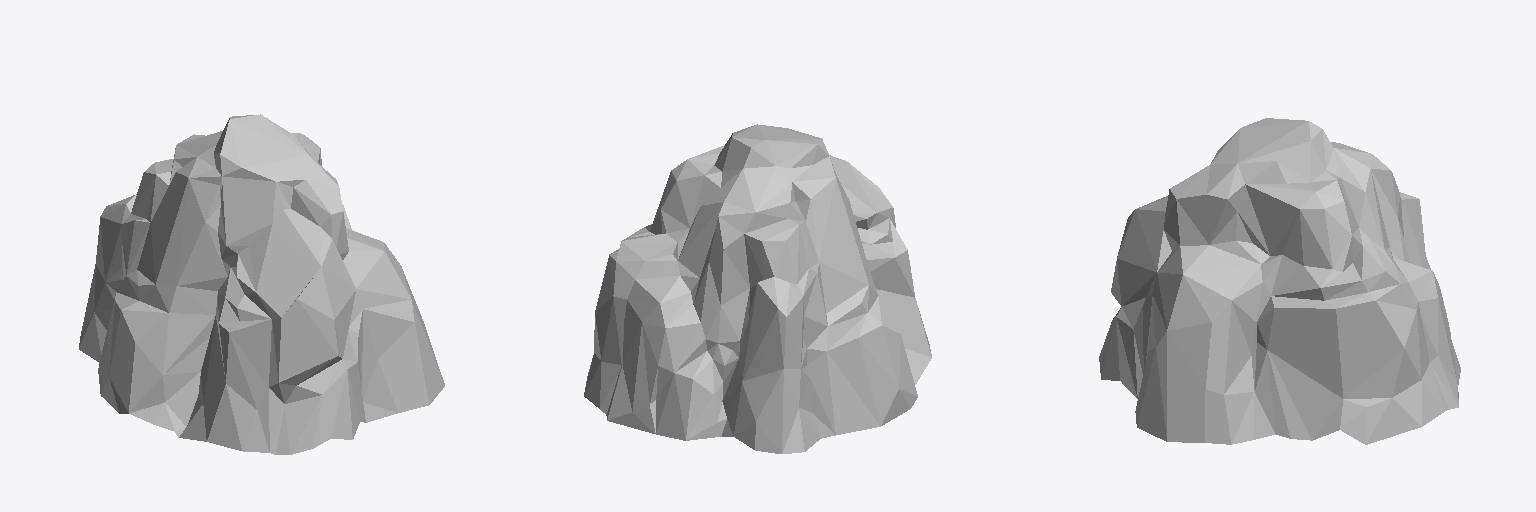
Rendered from Rock_big_single_b_LOD2.obj.
The picture shows the model from 3 angles: view 1: azimuth 30°, elevation 25°; view 2: azimuth 150°, elevation 25°; view 3: azimuth 270°, elevation 25°; orthographic projection.
Parts seen in each view (by area): view 1: Rock_big_single_b; view 2: Rock_big_single_b; view 3: Rock_big_single_b.
Part boxes in pixels (x1,y1,x2,y2): Rock_big_single_b: (79,114,444,454); Rock_big_single_b: (584,124,931,453); Rock_big_single_b: (1099,118,1460,444).
Size of the model in its own units: 128 by 113 by 144.